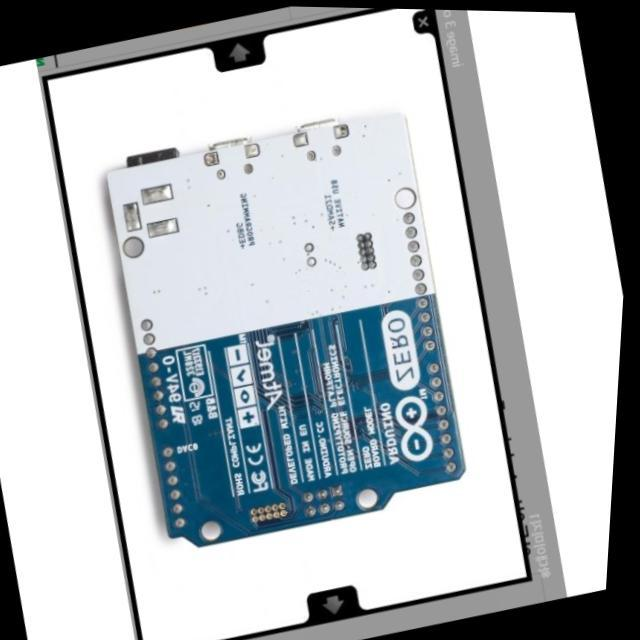Arduino-Zero: (109, 114, 465, 547)
